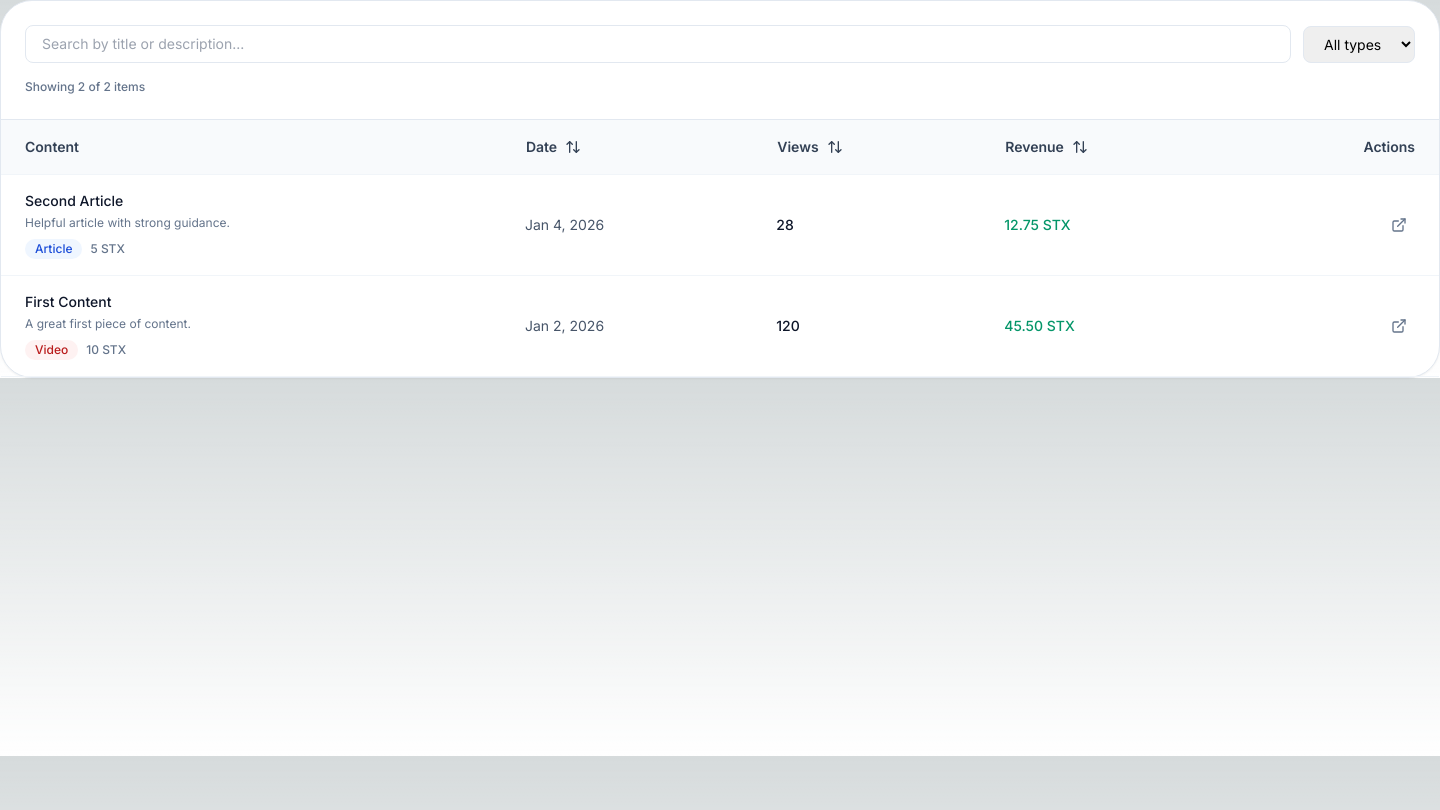
Scenario: ContentBrowser › shows an empty state when no items match and clears filters
Type "missing" into the field with placeholder "Search by title or description..." at [658, 44], box [25,25,1291,63]
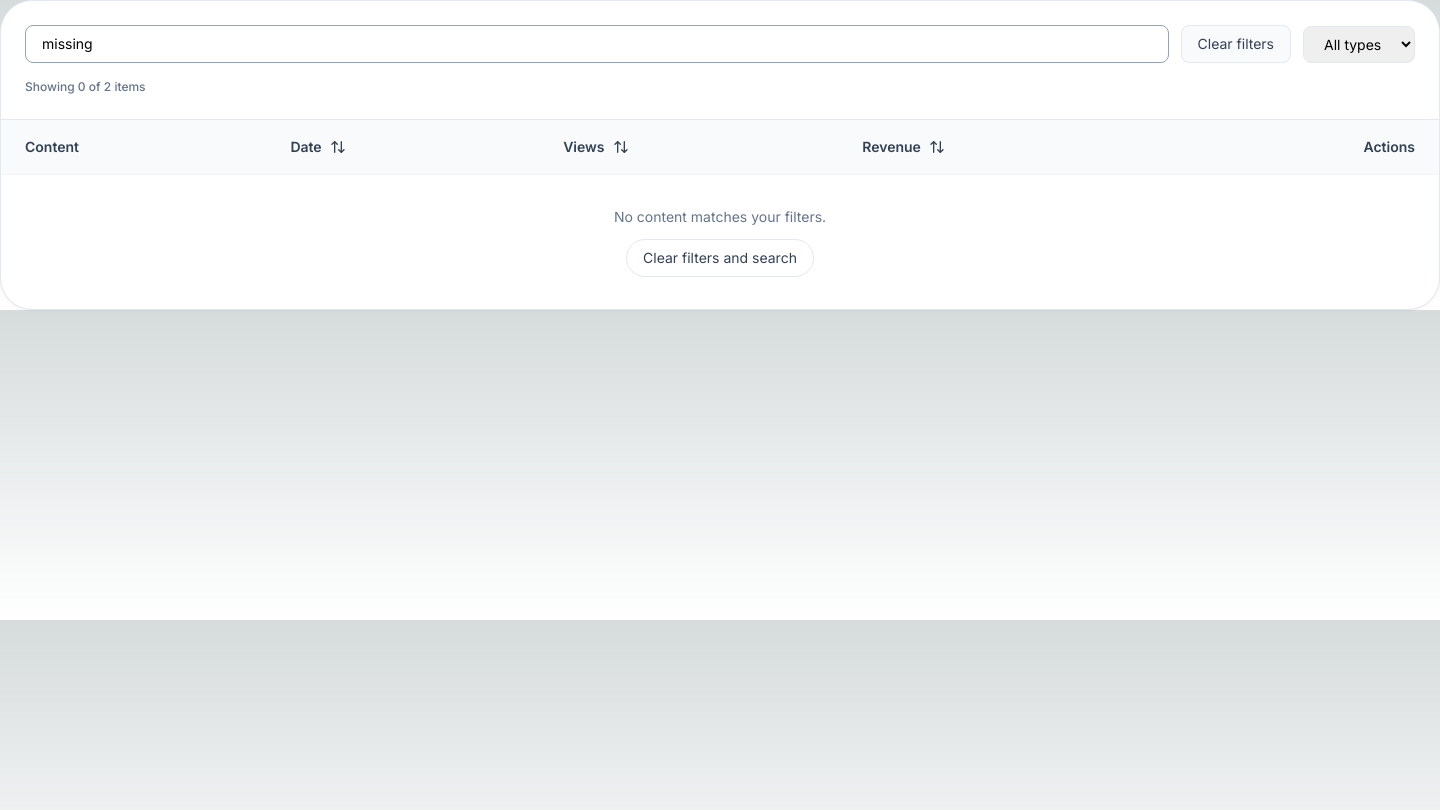
Expected: the text "No content matches your filters." is shown, [614,208,826,225]
Expected: the button "Clear filters and search" is shown
Click the button "Clear filters and search" at [720, 258], box [626,239,814,277]
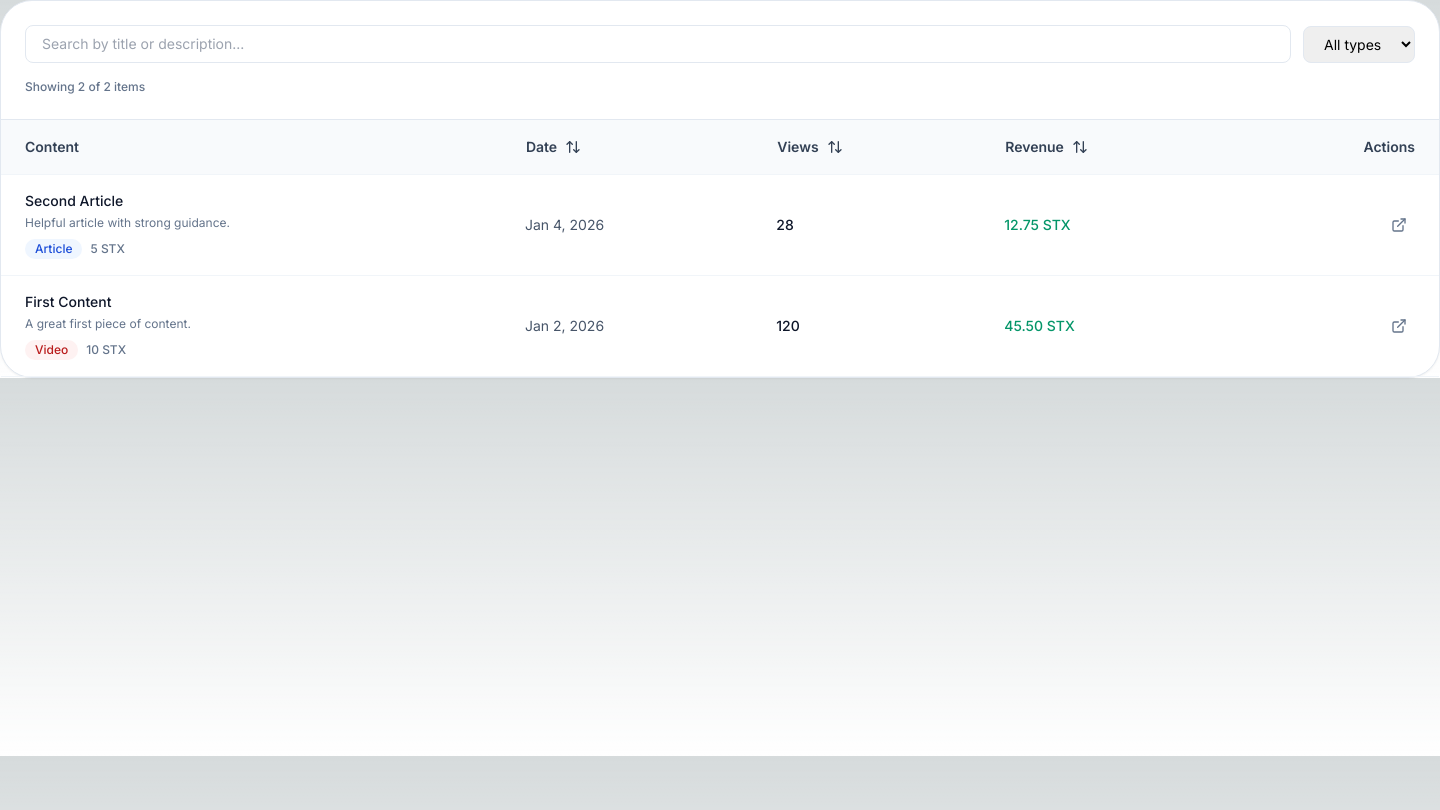
Expected: the text "Showing 2 of 2 items" is shown, [25,79,145,94]
